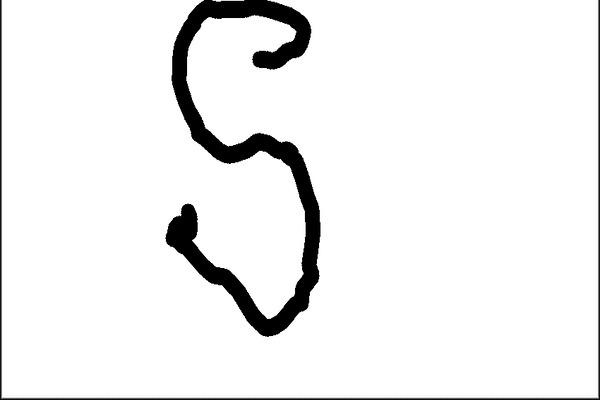S: (141, 0, 334, 359)
